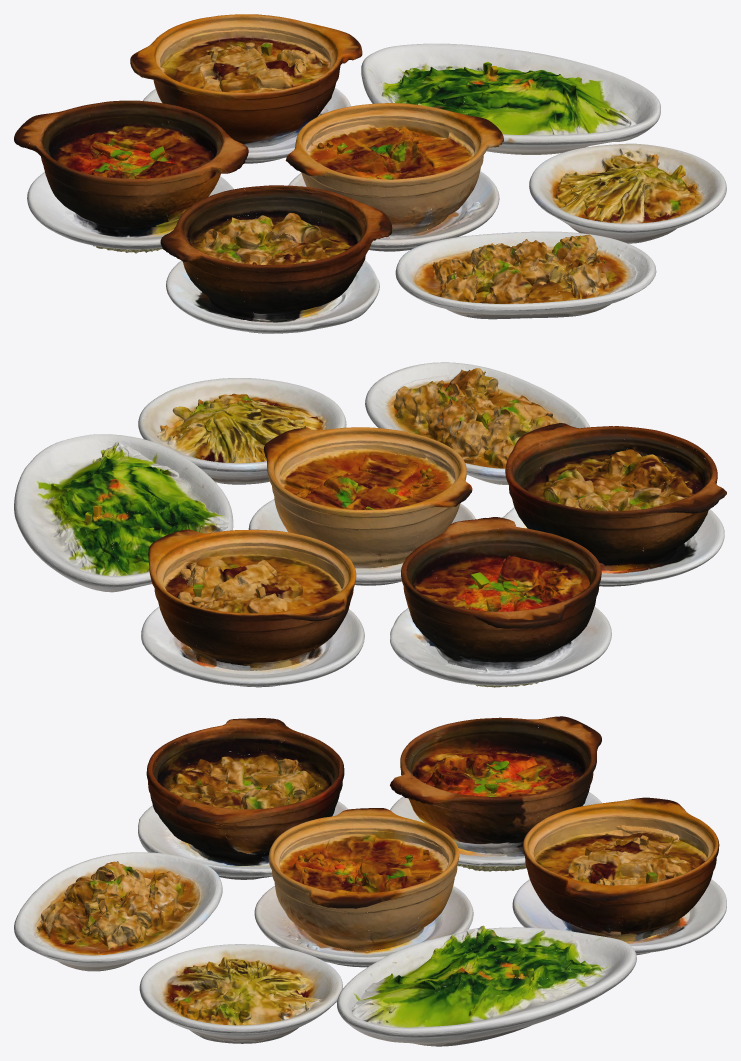
The model's file is braised-meat-dish.glb.
3 views of the same model, one above another, from view 1: azimuth 30°, elevation 25°; view 2: azimuth 150°, elevation 25°; view 3: azimuth 270°, elevation 25° (orthographic). The views are drawn at different scales.
Parts seen in each view (by area): view 1: world; view 2: world; view 3: world.
Boxes of the visible parts, left/top/right/bottom form: world: left=14, top=14, right=726, bottom=333; world: left=14, top=362, right=726, bottom=687; world: left=14, top=716, right=726, bottom=1046.
Bounding box in the file's own units: 0.2624 × 0.0392 × 0.28.
Materials: 1 (1 with a texture image).
